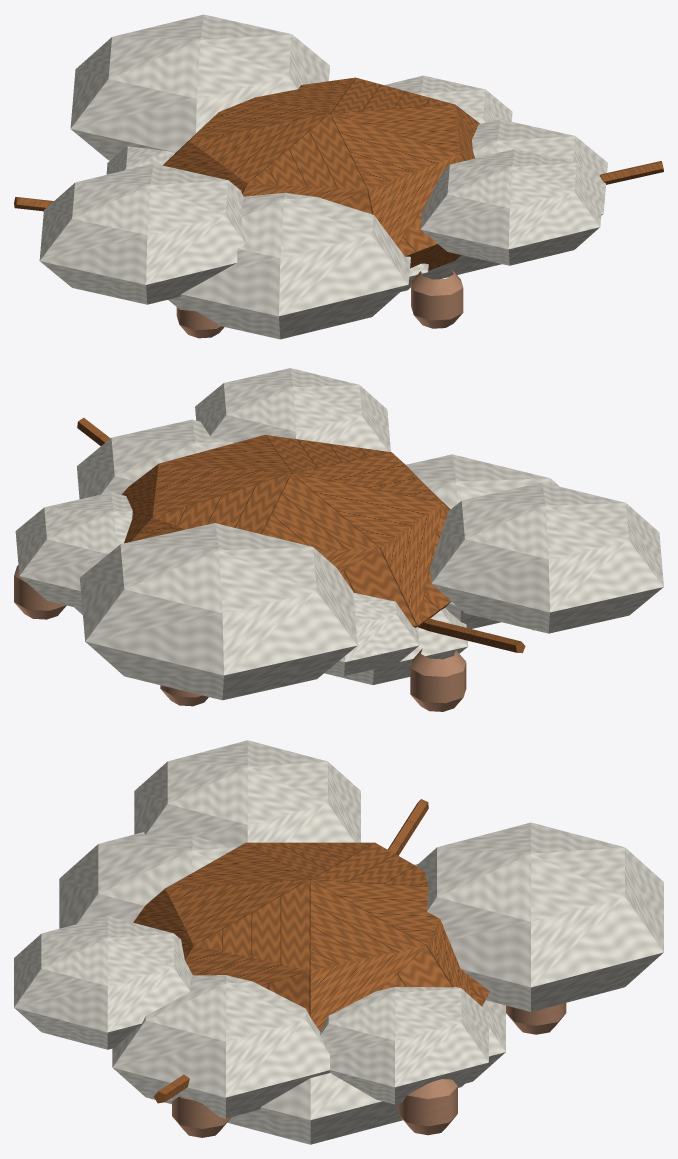
File: greek-island-village-and-harbour-net-pile-bc8bc35d__37108.glb
The picture shows the model from 3 angles, top to bottom: view 1: azimuth 30°, elevation 25°; view 2: azimuth 150°, elevation 25°; view 3: azimuth 270°, elevation 25°; orthographic projection. The views are drawn at different scales.
Visible parts, largest first — view 1: net-pile; view 2: net-pile; view 3: net-pile.
Part boxes in pixels (box(x1,y1,x2,y2)): net-pile: box(14, 14, 663, 339); net-pile: box(14, 368, 663, 711); net-pile: box(14, 740, 663, 1144).
Bounding box in the file's own units: 1.99 × 0.5741 × 1.73.
Materials: 3 (3 with a texture image).
